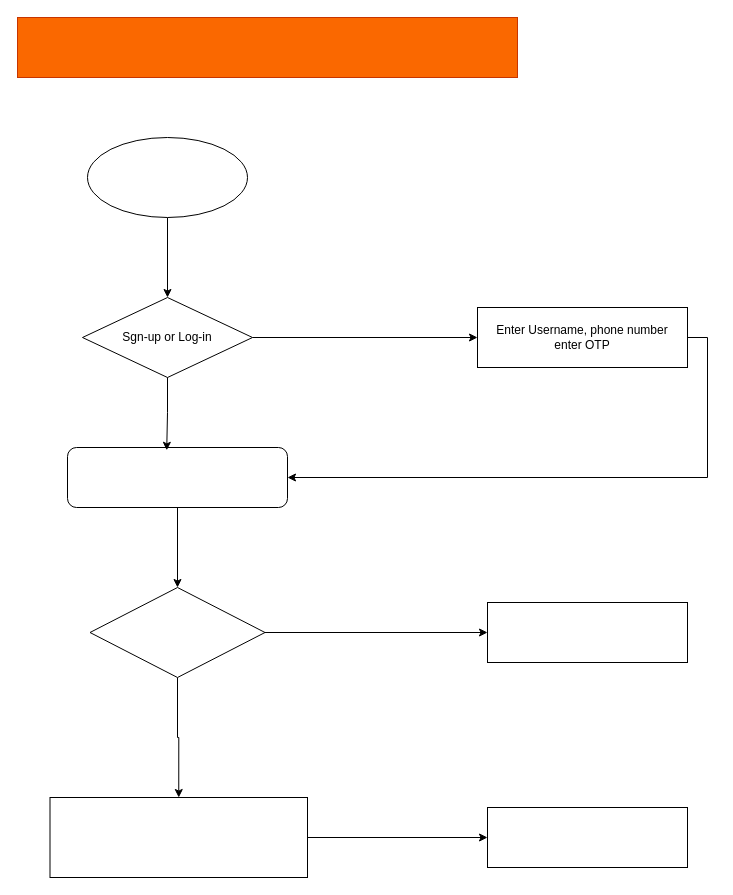
Image size: 733x895. Some labels were removed from this diagram. Here are the shapes that lost their labels. From the top down, the centre of each, then its label:
the point at 267,47: Design a Lifecycle of Food Delivery Application
the point at 167,177: Open the App
